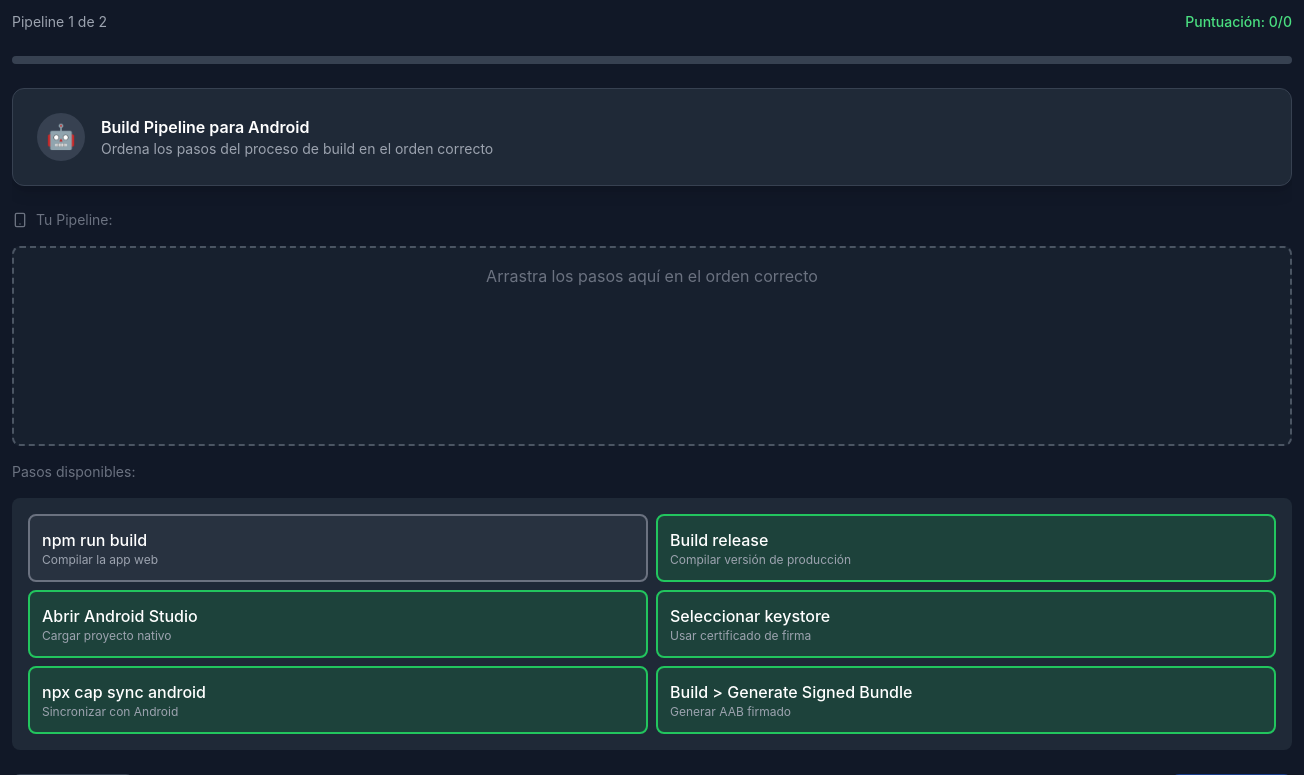
Test: BuildPipeline › interaction › should allow removing step from pipeline
Note: Add step
Step 1. Click the text "npm run build" → (95, 540), box [42,530,147,550]
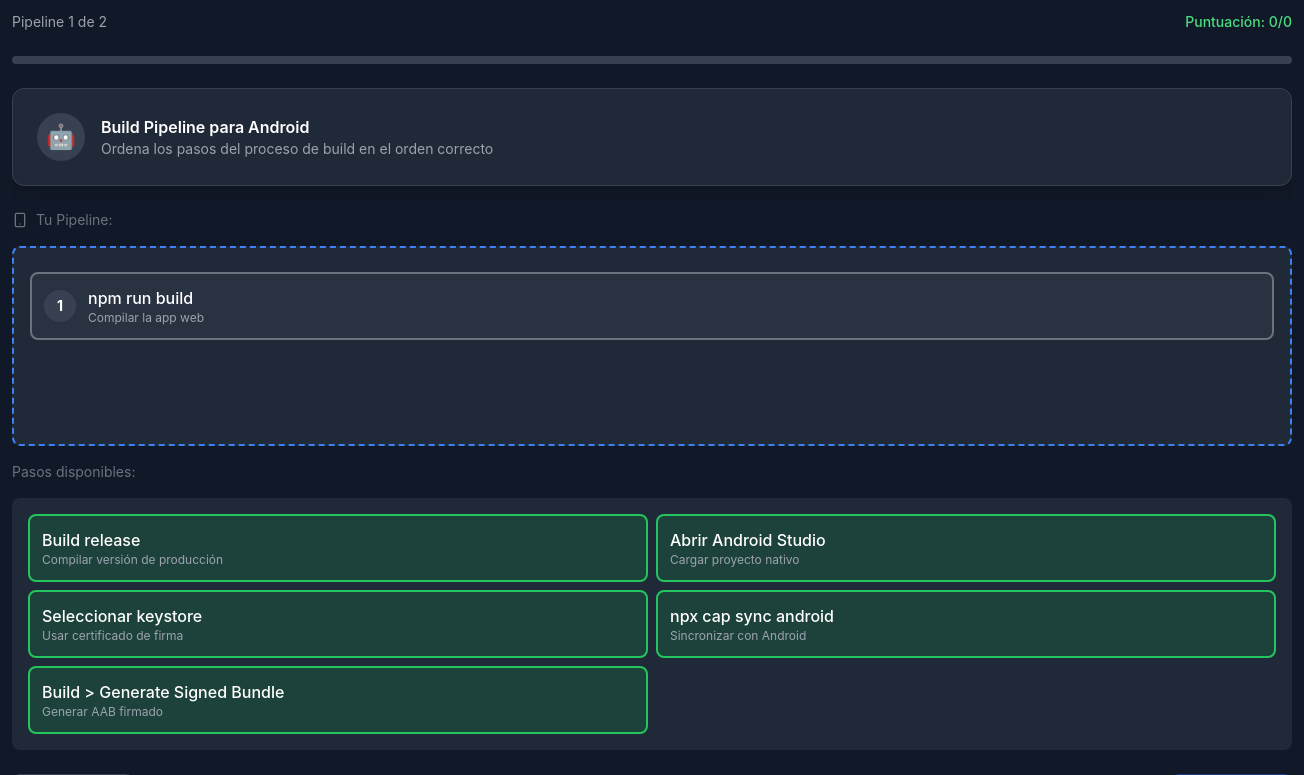
Note: Click the step in pipeline to remove it
Step 2. Click the text "npm run build" → (141, 298), box [88,288,193,308]
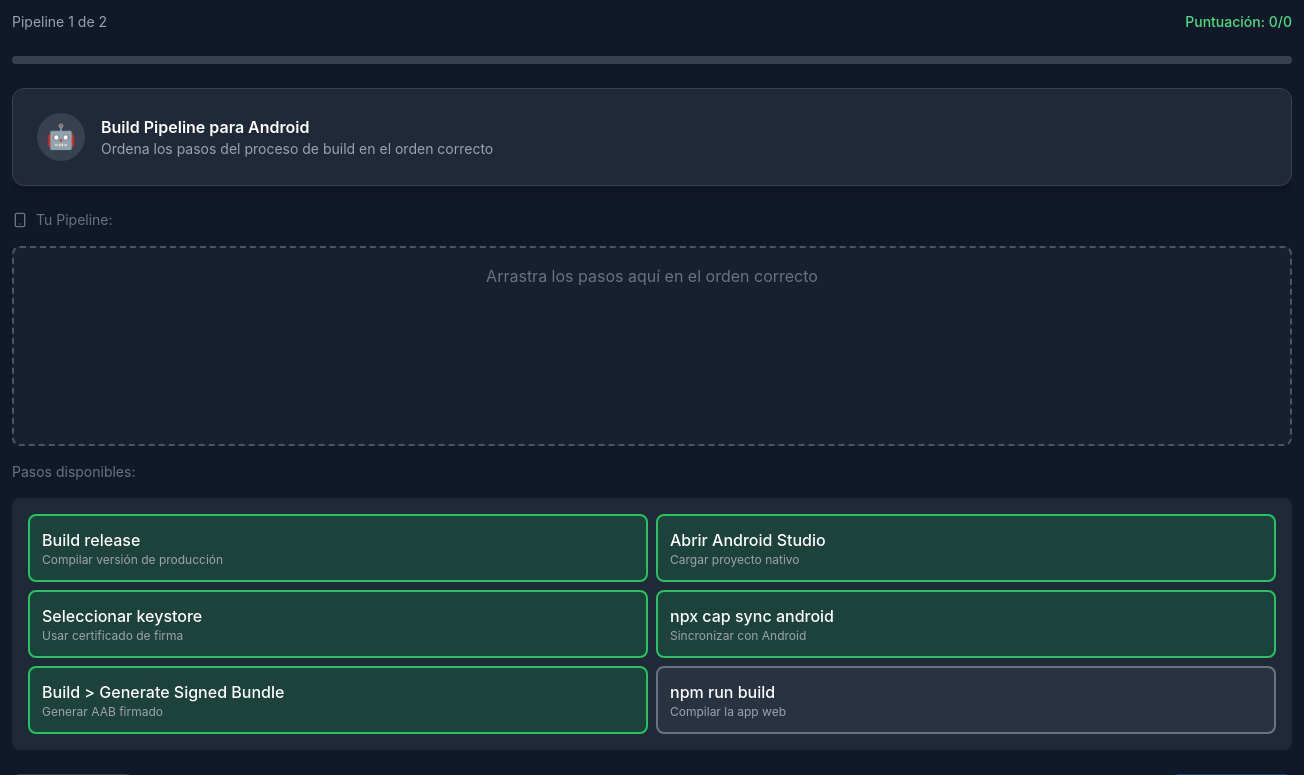
Expected: the text "Arrastra los pasos aquí en el orden correcto" is shown, [486,266,818,286]
